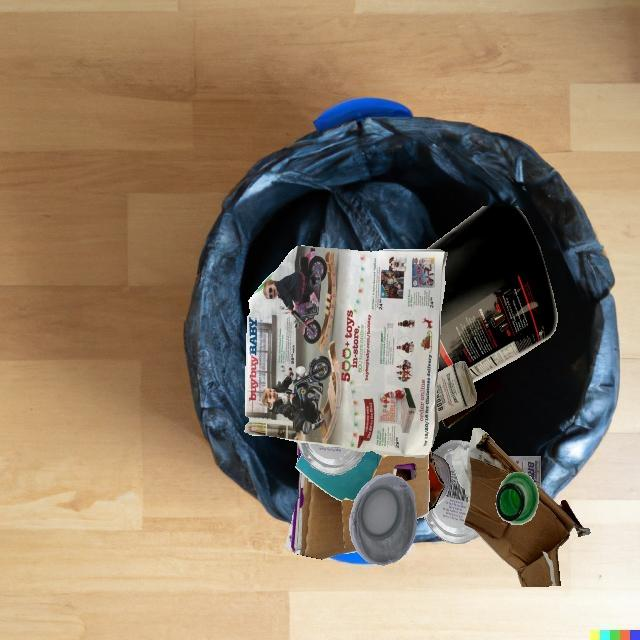cardboard: (452, 427, 590, 587), (285, 484, 357, 559), (442, 368, 502, 427), (298, 446, 380, 486)
glass: (436, 361, 477, 422), (495, 472, 539, 525), (432, 452, 451, 506), (247, 331, 247, 331)
paper: (244, 246, 447, 457), (295, 451, 383, 501)
plastic: (426, 206, 557, 382), (349, 473, 417, 565), (424, 440, 479, 544), (296, 442, 366, 475), (508, 456, 541, 488), (380, 454, 389, 457)
trash: (428, 449, 445, 511)
